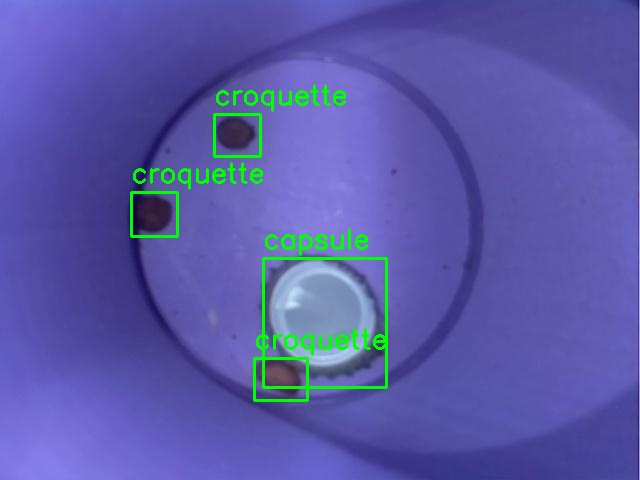capsule: (263, 258, 386, 387)
croquette: (254, 358, 307, 400), (131, 192, 177, 236), (214, 114, 260, 156)
